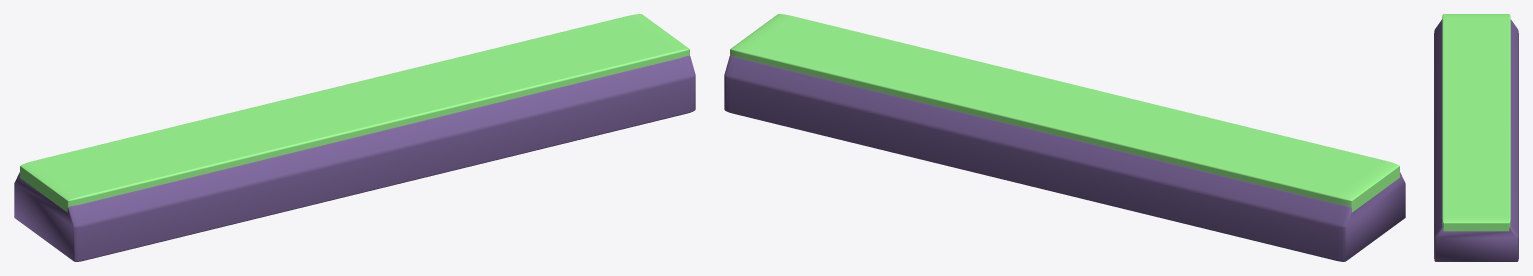
The picture shows the model from 3 angles, left to right: view 1: azimuth 30°, elevation 25°; view 2: azimuth 150°, elevation 25°; view 3: azimuth 270°, elevation 25°; orthographic projection. The views are drawn at different scales.
Parts seen in each view (by area): view 1: Cube.016, Plane.020; view 2: Cube.016, Plane.020; view 3: Plane.020, Cube.016.
Boxes of the visible parts, x1=… form: Cube.016: x1=14, y1=55, x2=695, y2=261; Plane.020: x1=20, y1=14, x2=689, y2=212; Cube.016: x1=724, y1=55, x2=1405, y2=261; Plane.020: x1=730, y1=14, x2=1399, y2=212; Plane.020: x1=1442, y1=14, x2=1510, y2=231; Cube.016: x1=1434, y1=19, x2=1518, y2=261.
Bounding box in the file's own units: 776 × 70.78 × 133.
